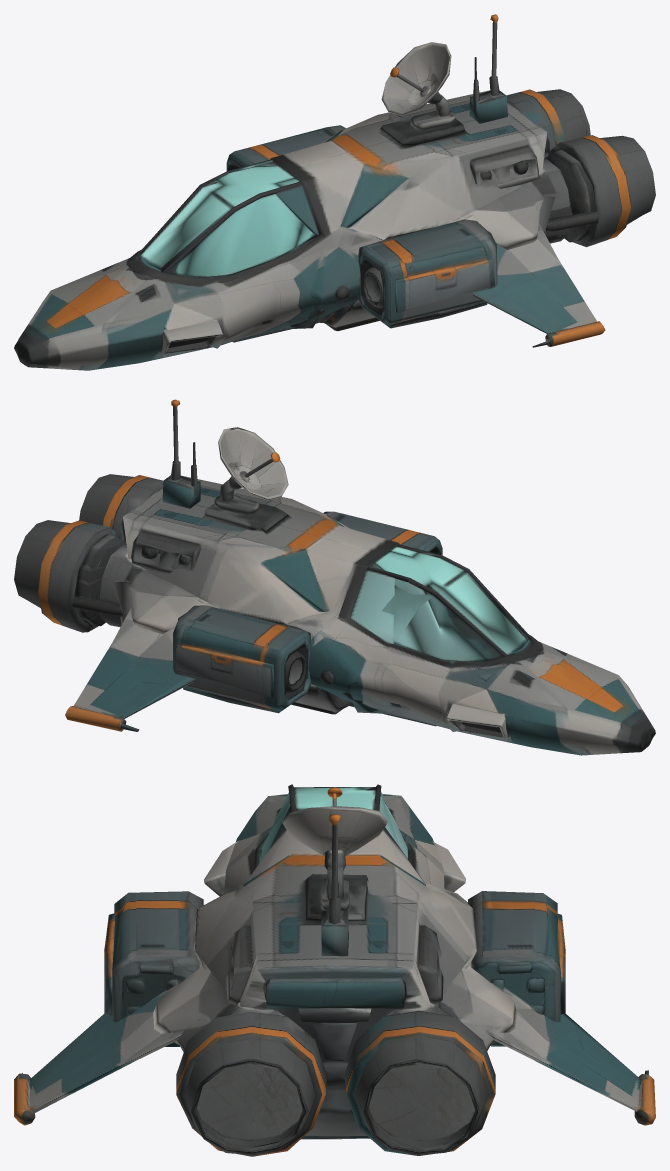
3 renders of one model, top to bottom at view 1: azimuth 30°, elevation 25°; view 2: azimuth 150°, elevation 25°; view 3: azimuth 270°, elevation 25°, orthographic. The views are drawn at different scales.
Parts seen in each view (by area): view 1: mesh_node; view 2: mesh_node; view 3: mesh_node.
Part boxes in pixels (x1,y1,x2,y2): mesh_node: [14, 14, 655, 370]; mesh_node: [14, 399, 655, 755]; mesh_node: [14, 784, 655, 1156].
Size of the model in its own units: 2 by 0.8262 by 1.41.
Materials: 1 (1 with a texture image).
